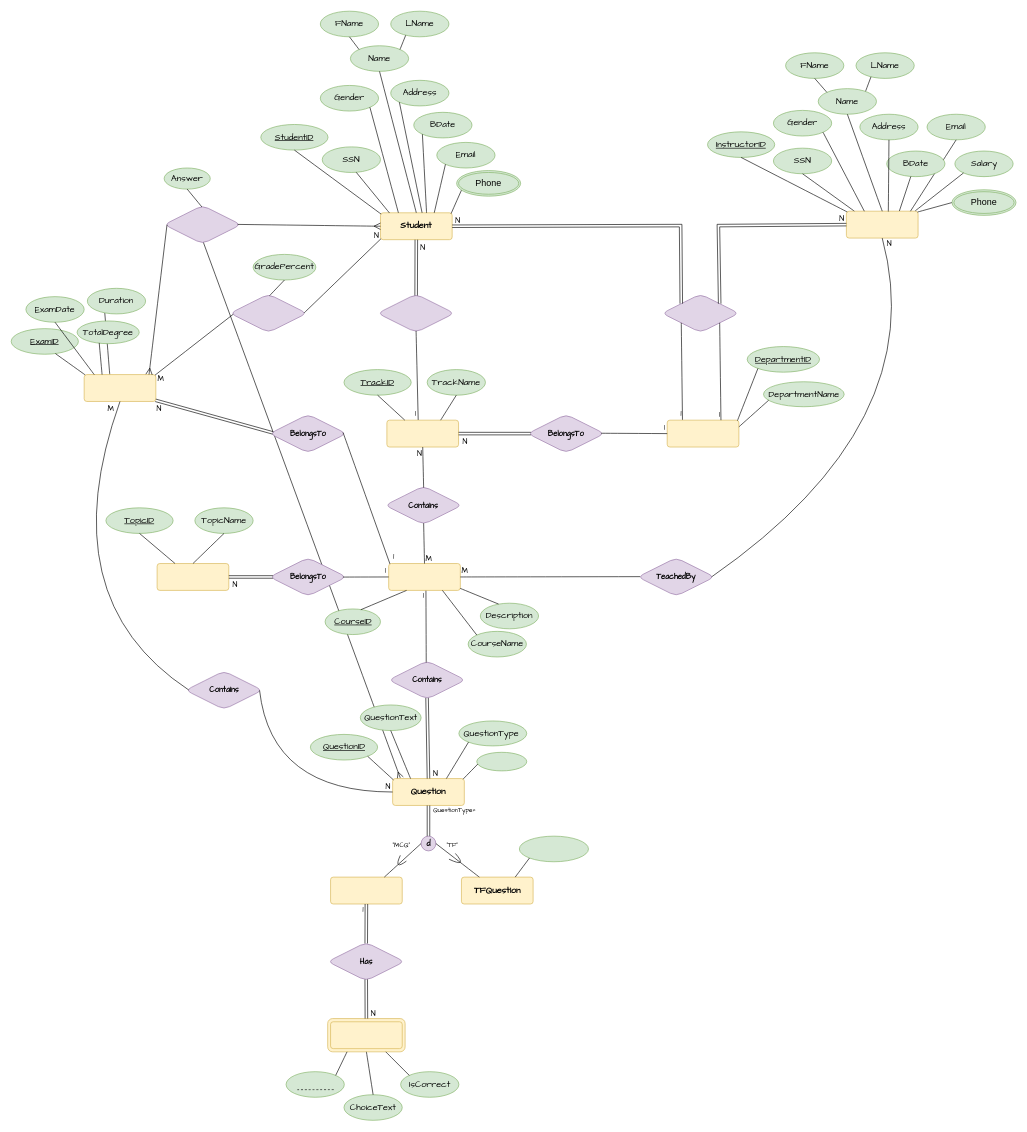
This 1027x1132 diagram has some shape labels left out. Each missing label, with the box of its shape:
Answered: (164, 205, 241, 244)
AssignedTo: (661, 293, 739, 332)
Choice: (330, 1021, 402, 1049)
ChoiceNo: (285, 1071, 344, 1097)
CorrectAnswer: (519, 836, 588, 862)
Course: (388, 563, 460, 590)
Degree: (476, 752, 527, 771)
Department: (667, 420, 739, 447)
EnrolledIn: (377, 293, 454, 332)
Exam: (84, 374, 156, 401)
Instructor: (846, 211, 918, 238)
MCQQuestion: (330, 876, 402, 904)
RegisteredFor: (229, 293, 307, 332)
Topic: (156, 563, 229, 590)
Track: (386, 420, 459, 447)
